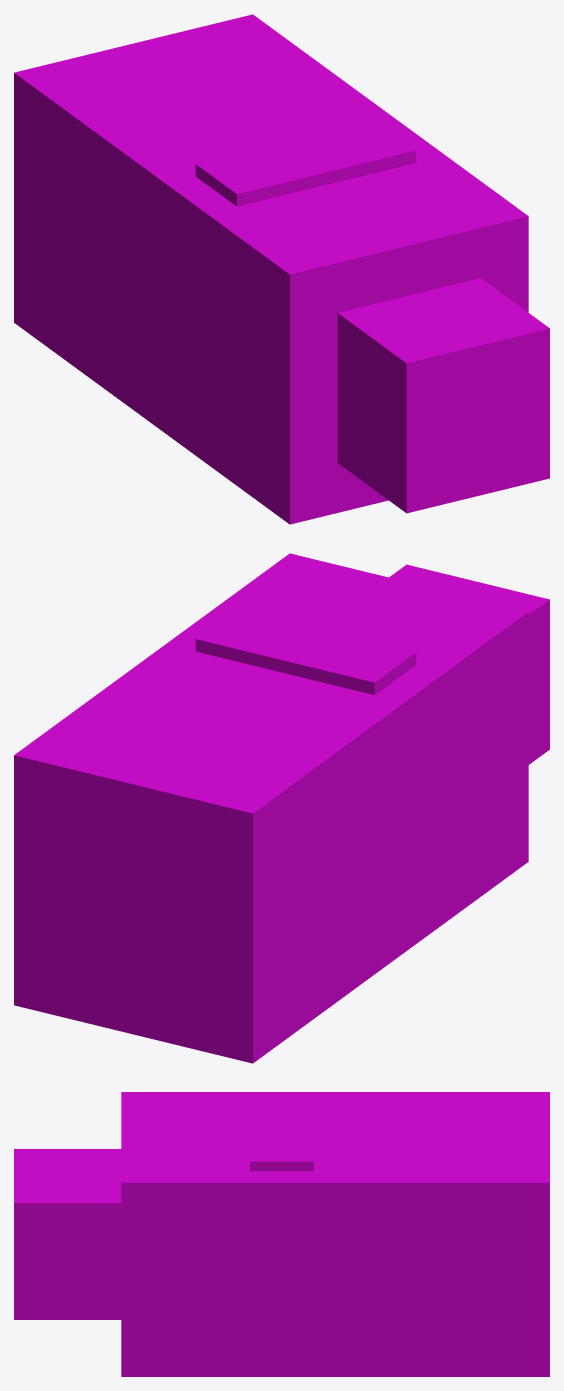
The model's file is cyberpunk_building.glb.
The picture shows the model from 3 angles, top to bottom: view 1: azimuth 30°, elevation 25°; view 2: azimuth 150°, elevation 25°; view 3: azimuth 270°, elevation 25°; orthographic projection. The views are drawn at different scales.
Visible parts, largest first — view 1: world; view 2: world; view 3: world.
Boxes of the visible parts, bbox=[...] form: world: bbox=[14, 14, 549, 524]; world: bbox=[14, 553, 549, 1063]; world: bbox=[14, 1092, 549, 1376].
Size of the model in its own units: 2 by 2.1 by 5.
